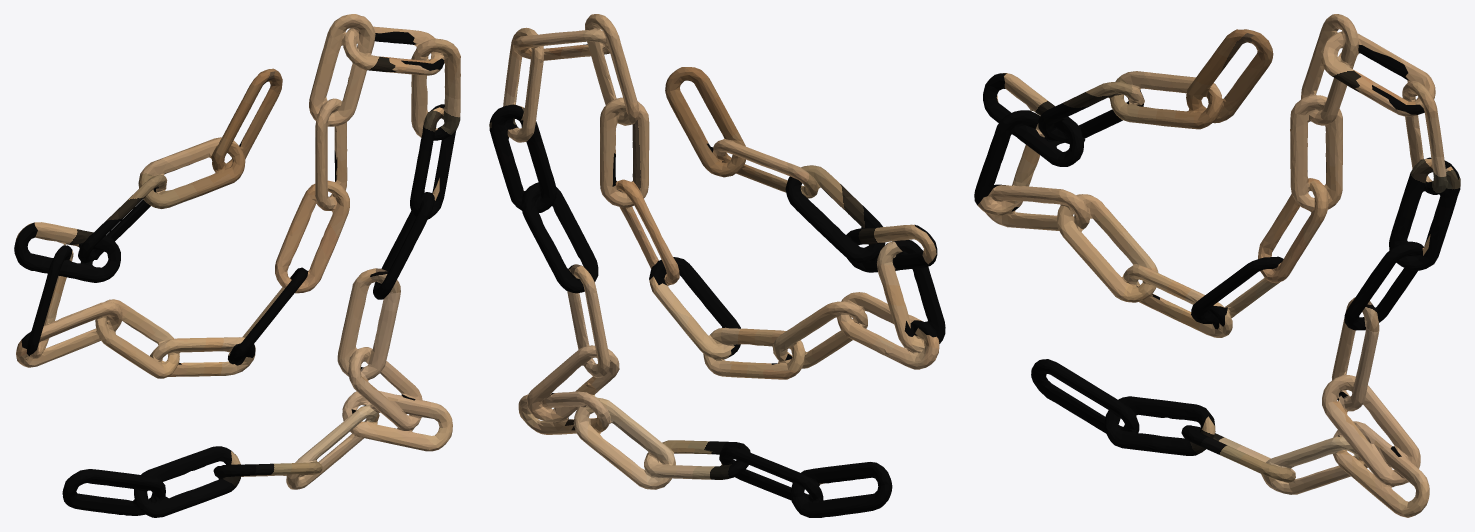
The picture shows the model from 3 angles, left to right: view 1: azimuth 30°, elevation 25°; view 2: azimuth 150°, elevation 25°; view 3: azimuth 330°, elevation 25°; orthographic projection. The views are drawn at different scales.
Size of the model in its own units: 0.2747 by 0.2725 by 0.0254.
